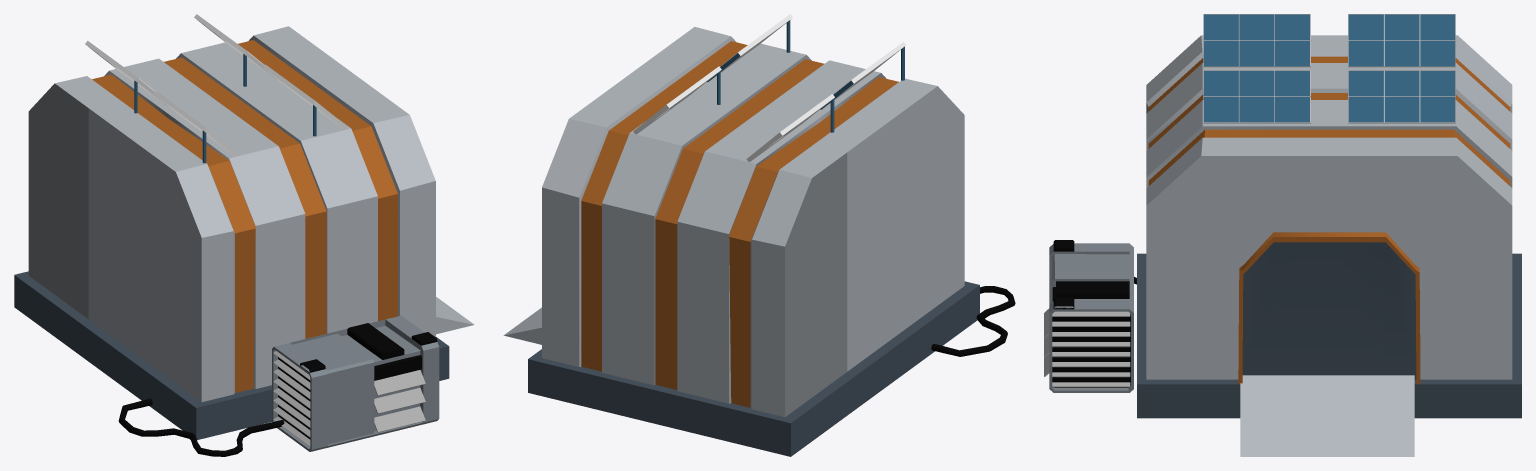
File: TeraMine3.fbx
The picture shows the model from 3 angles, left to right: view 1: azimuth 30°, elevation 25°; view 2: azimuth 150°, elevation 25°; view 3: azimuth 270°, elevation 25°; orthographic projection. The views are drawn at different scales.
Parts seen in each view (by area): view 1: polySurface200; view 2: polySurface200; view 3: polySurface200.
Boxes of the visible parts, <box> form: polySurface200: <box>14,14,474,456</box>; polySurface200: <box>503,14,1015,456</box>; polySurface200: <box>1044,14,1521,456</box>.
Bounding box in the file's own units: 1211 × 868 × 1268.
